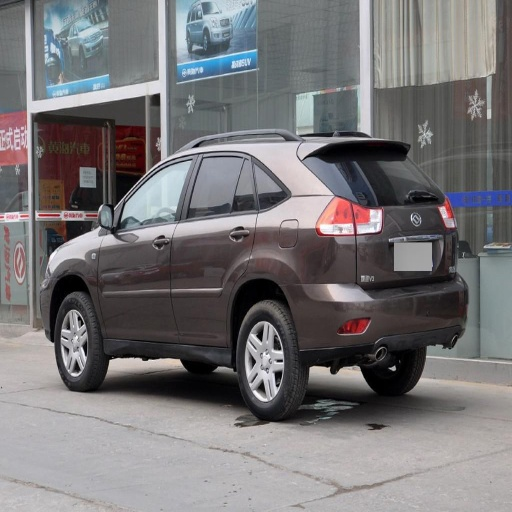_background_: (293, 264, 470, 357)
back_bumper: (299, 146, 438, 204)
back_glass: (171, 149, 258, 341)
back_left_door: (317, 215, 356, 237)
front_glass: (99, 154, 197, 337)
tailgate: (355, 203, 448, 292)
trunk: (236, 300, 305, 420), (55, 292, 107, 391), (366, 352, 423, 392)
